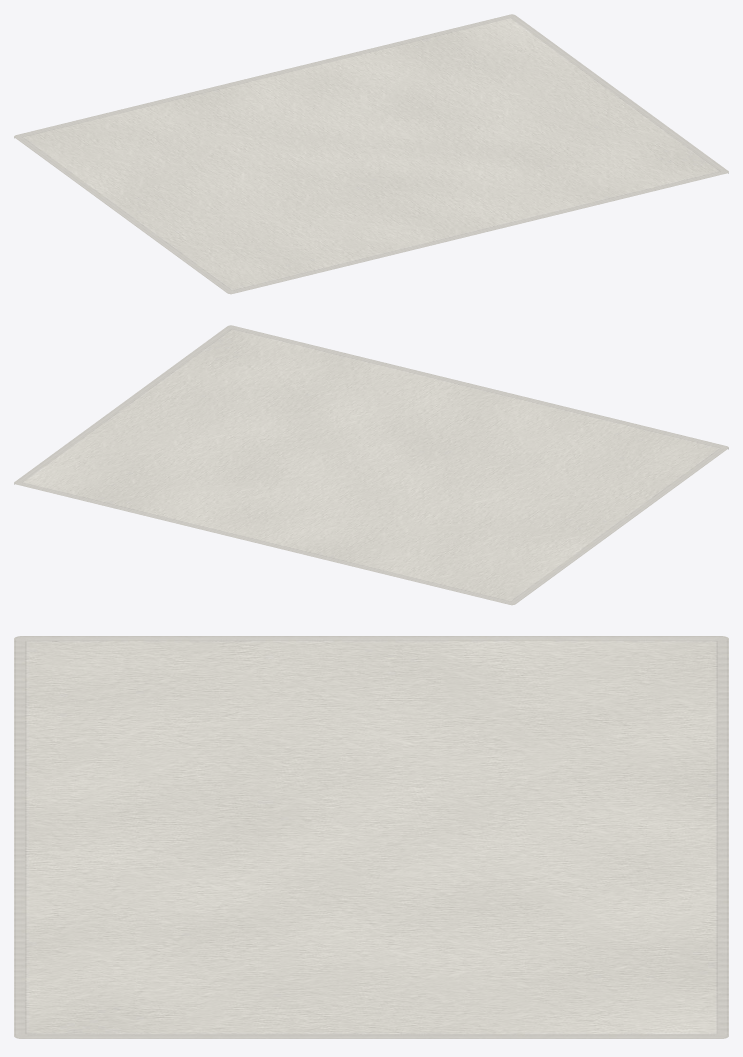
The model's file is ivory_M_r90.glb.
The picture shows the model from 3 angles, top to bottom: view 1: azimuth 30°, elevation 25°; view 2: azimuth 150°, elevation 25°; view 3: azimuth 270°, elevation 25°; orthographic projection. The views are drawn at different scales.
Visible parts, largest first — view 1: reliv_ivory_M_r90; view 2: reliv_ivory_M_r90; view 3: reliv_ivory_M_r90.
Boxes of the visible parts, bbox=[...] form: reliv_ivory_M_r90: bbox=[14, 14, 728, 294]; reliv_ivory_M_r90: bbox=[14, 325, 728, 605]; reliv_ivory_M_r90: bbox=[14, 636, 728, 1038].
Size of the model in its own units: 2 by 0.009 by 1.5.
Materials: 2 (1 with a texture image).
